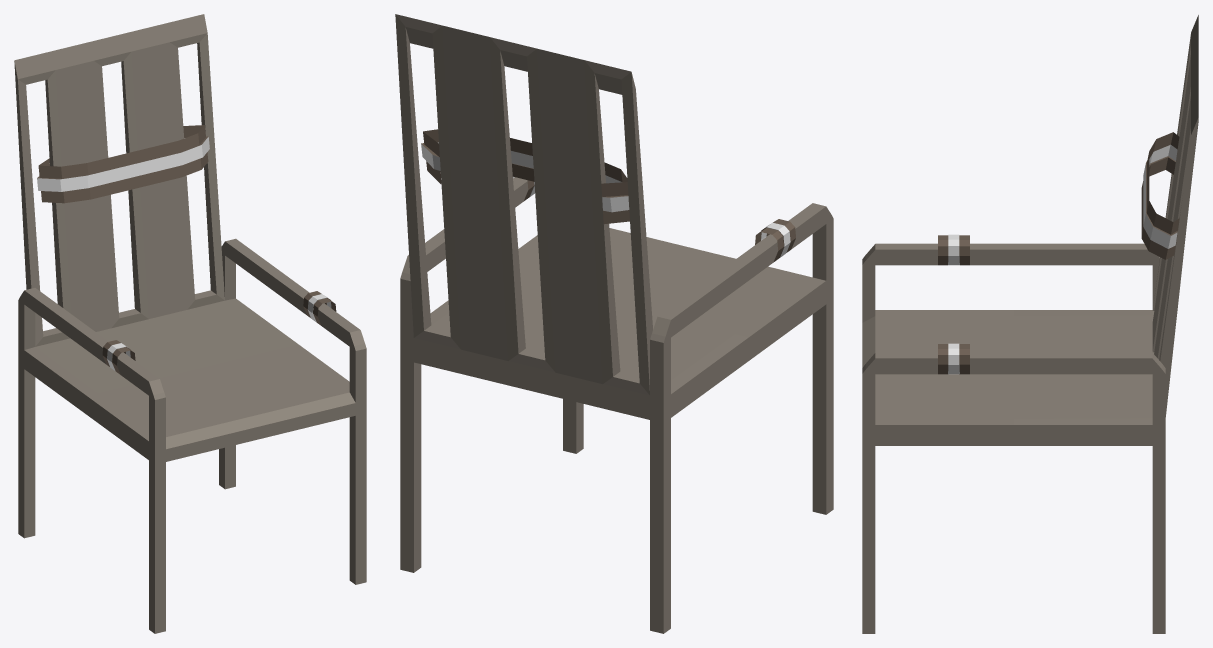
Rendered from Cadeira.fbx.
3 views of the same model, side by side, from view 1: azimuth 30°, elevation 25°; view 2: azimuth 150°, elevation 25°; view 3: azimuth 270°, elevation 25° (orthographic). The views are drawn at different scales.
Visible parts, largest first — view 1: Cadeira; view 2: Cadeira; view 3: Cadeira.
Part boxes in pixels (x1,y1,x2,y2): Cadeira: (14, 14, 366, 633); Cadeira: (395, 14, 833, 633); Cadeira: (862, 15, 1198, 633).
Bounding box in the file's own units: 59.62 × 119 × 71.07.
